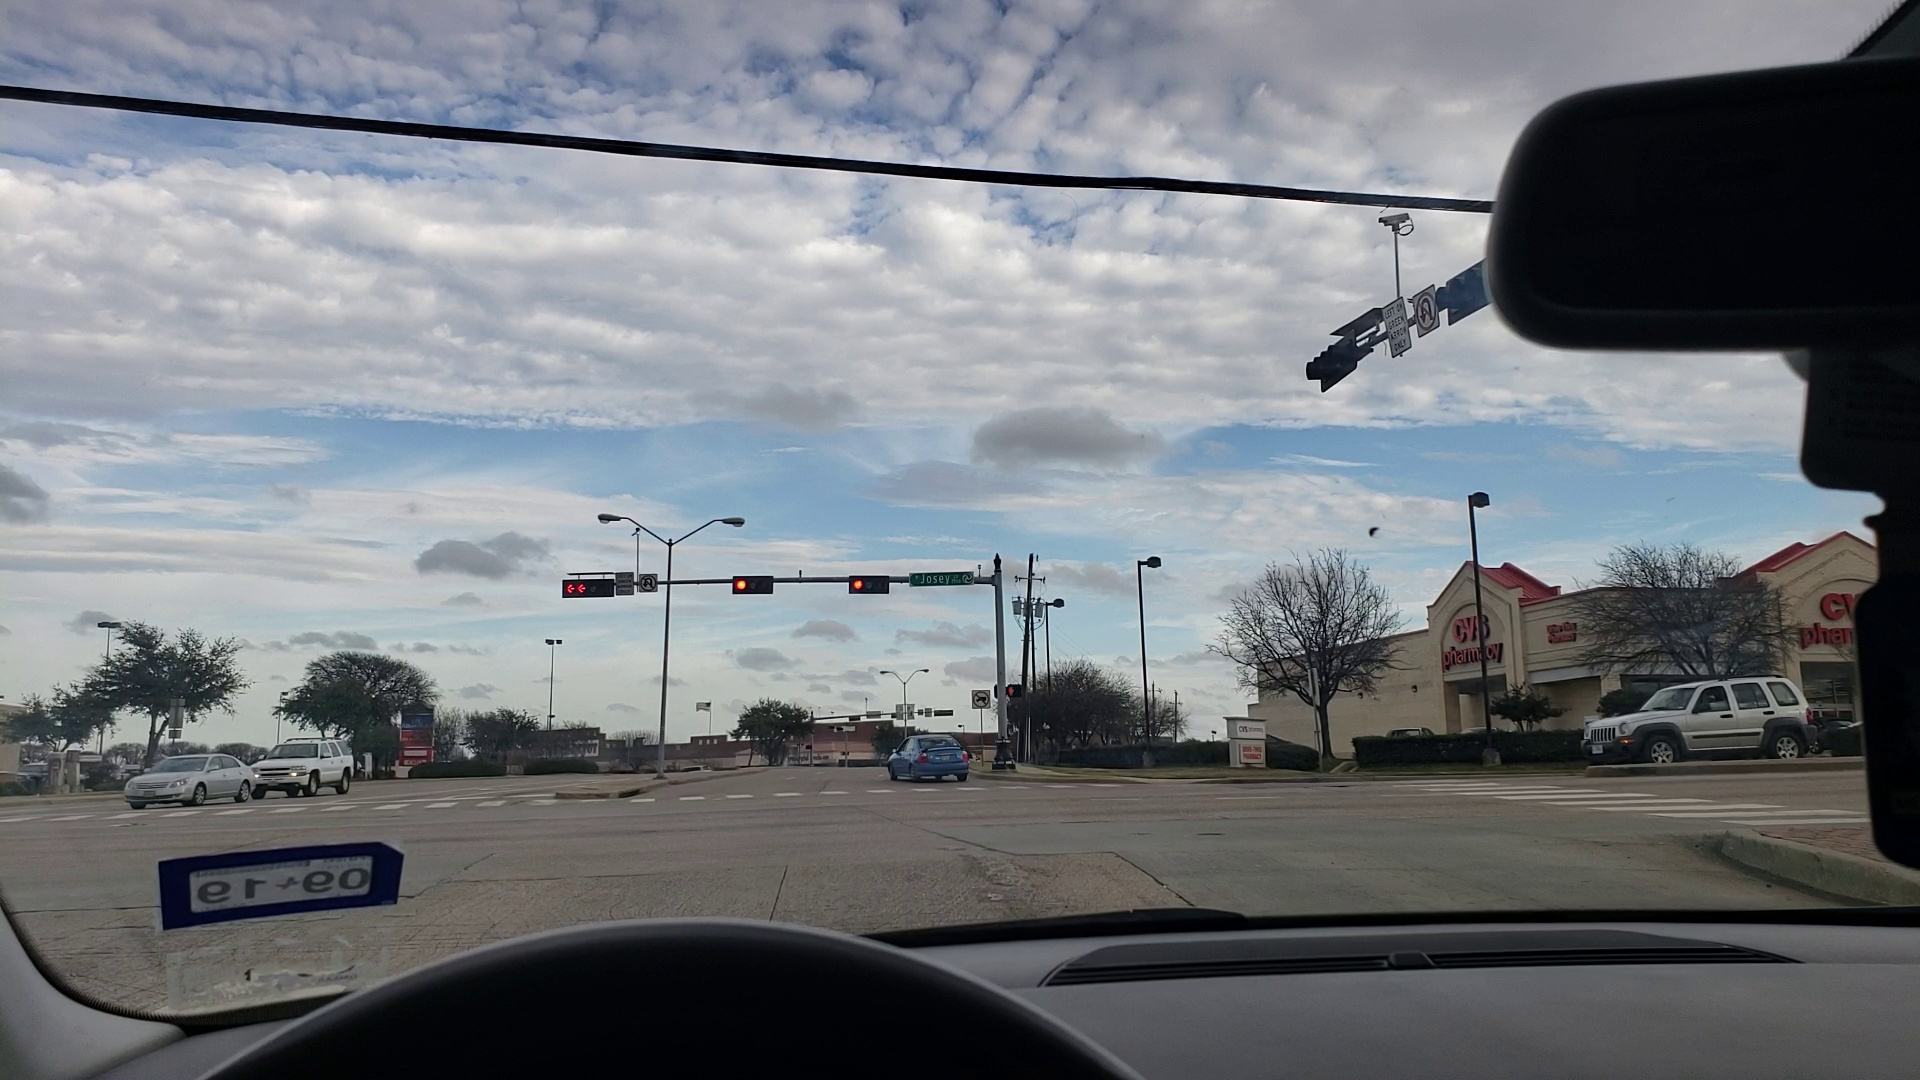car: (1588, 671, 1825, 765), (120, 746, 256, 812), (247, 735, 363, 800), (889, 738, 973, 789)
traffic light: (559, 574, 615, 596), (847, 578, 893, 597), (736, 574, 774, 597)
